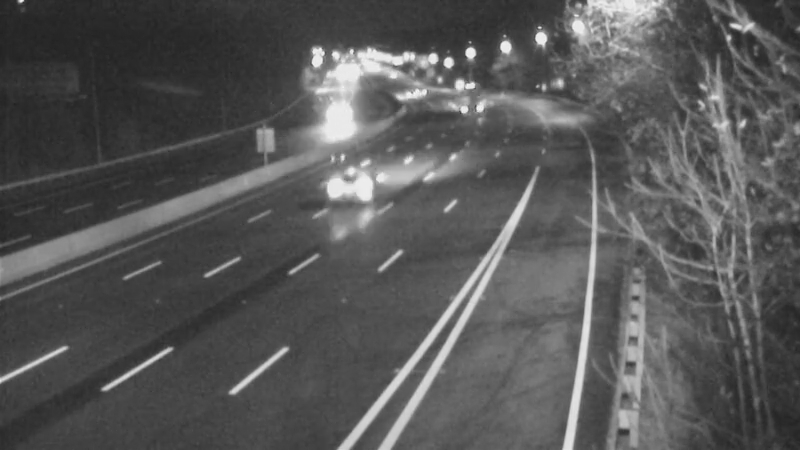vehicle: (312, 143, 392, 223), (397, 66, 447, 116), (374, 68, 424, 118), (442, 70, 492, 120), (325, 84, 375, 134)
